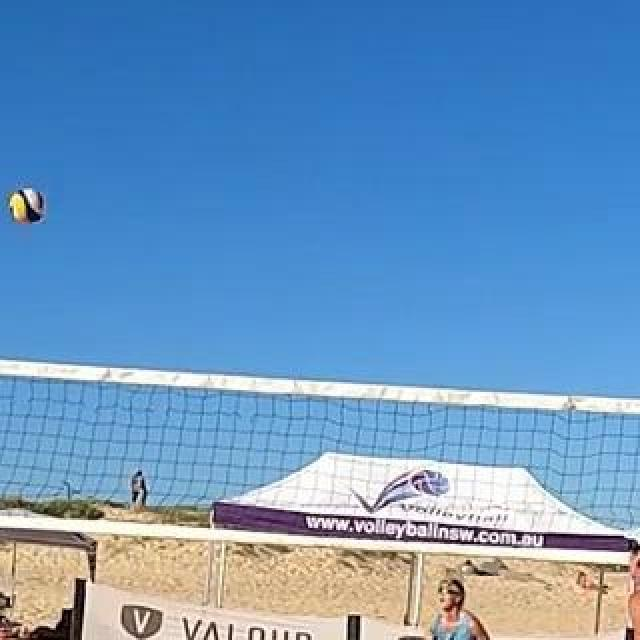volleyball: (10, 189, 46, 223)
